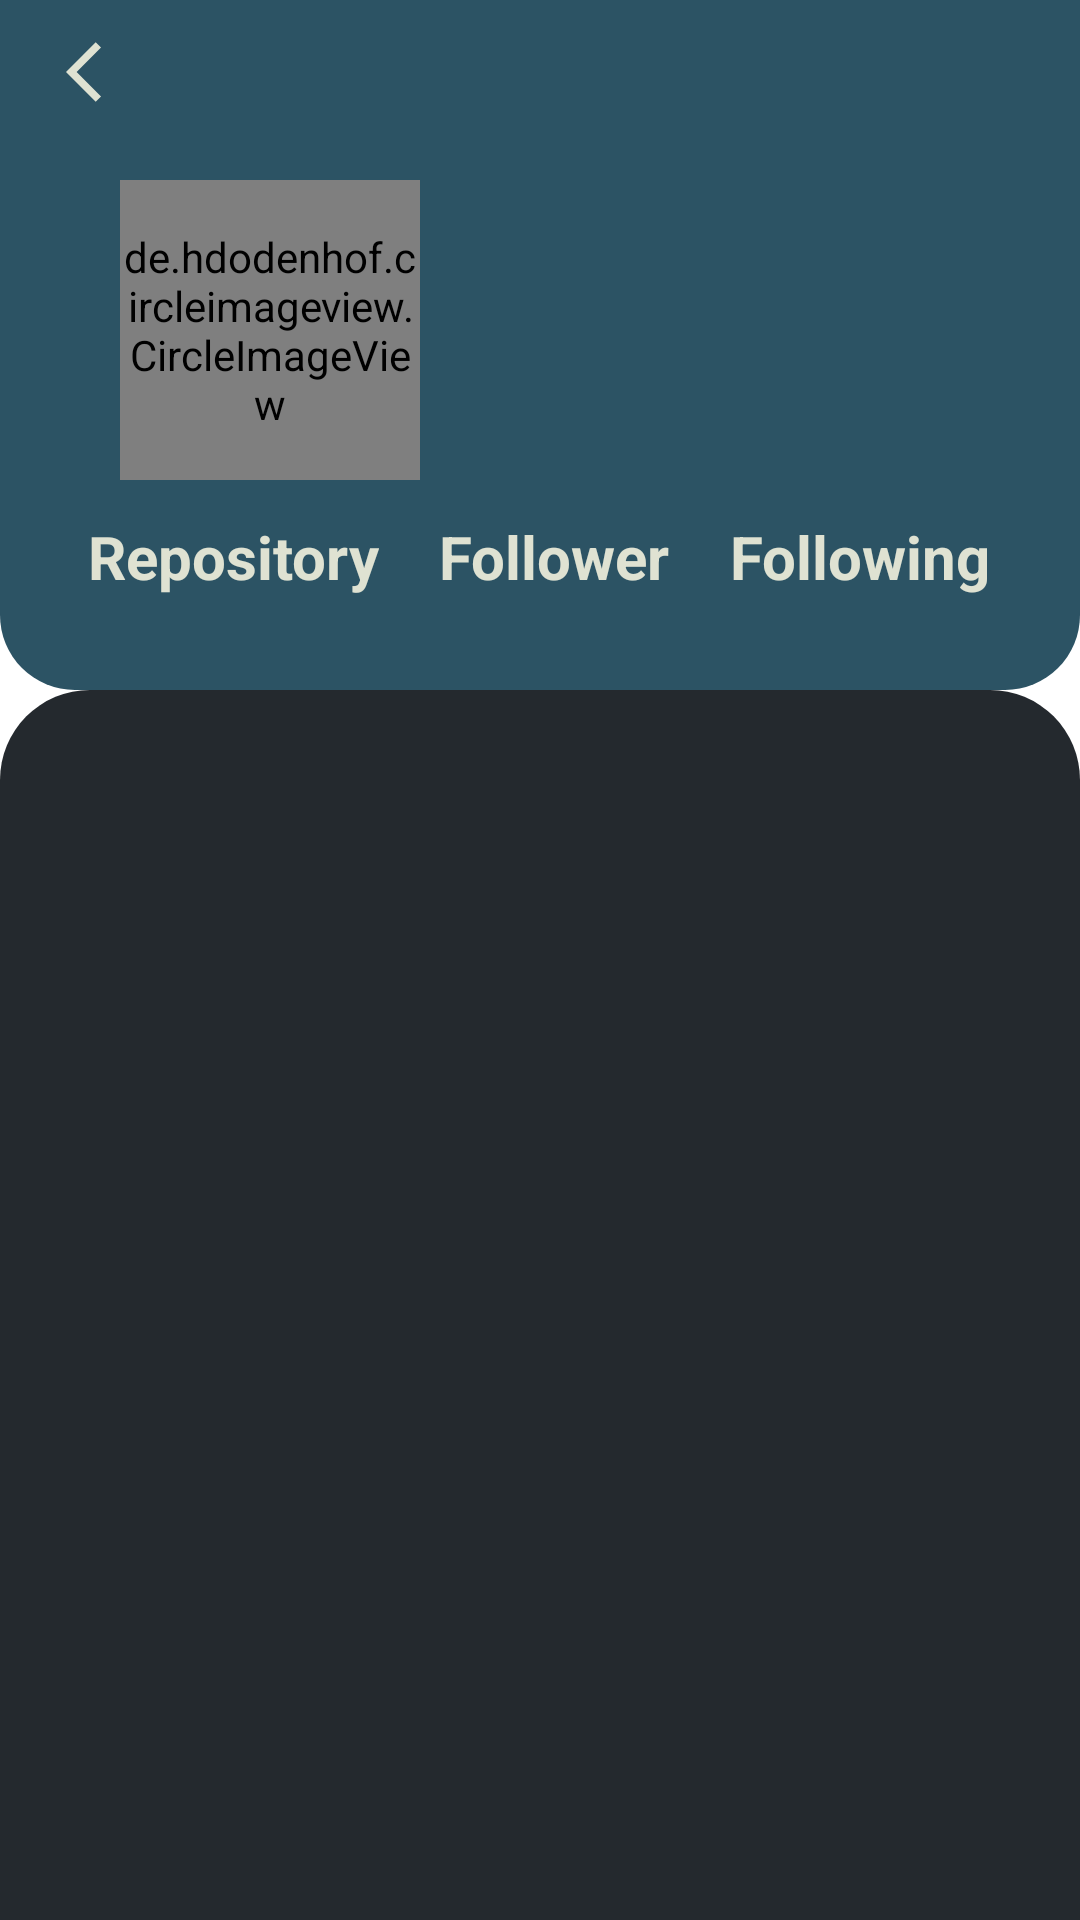

Where icons sit on this 1080w x 1920h app screen, as (x1, y1, x2, y2):
Back Button: (66, 42, 101, 102)
